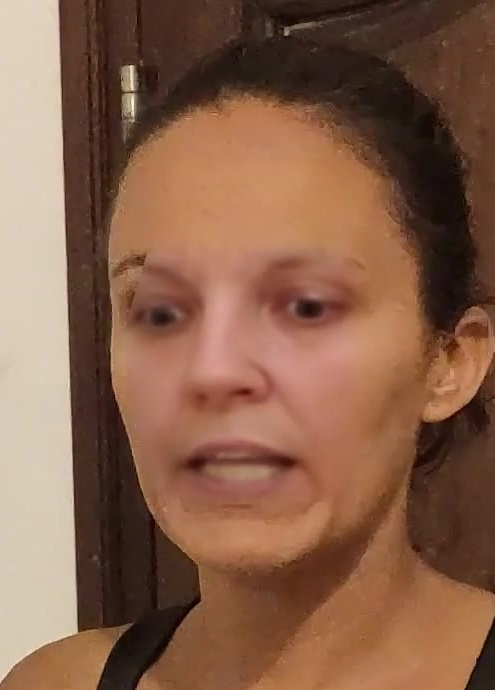eb_f: (104, 239, 375, 344)
